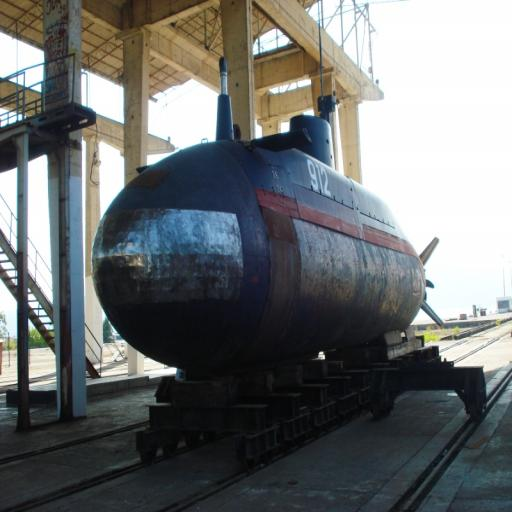submarine: (86, 66, 451, 387)
